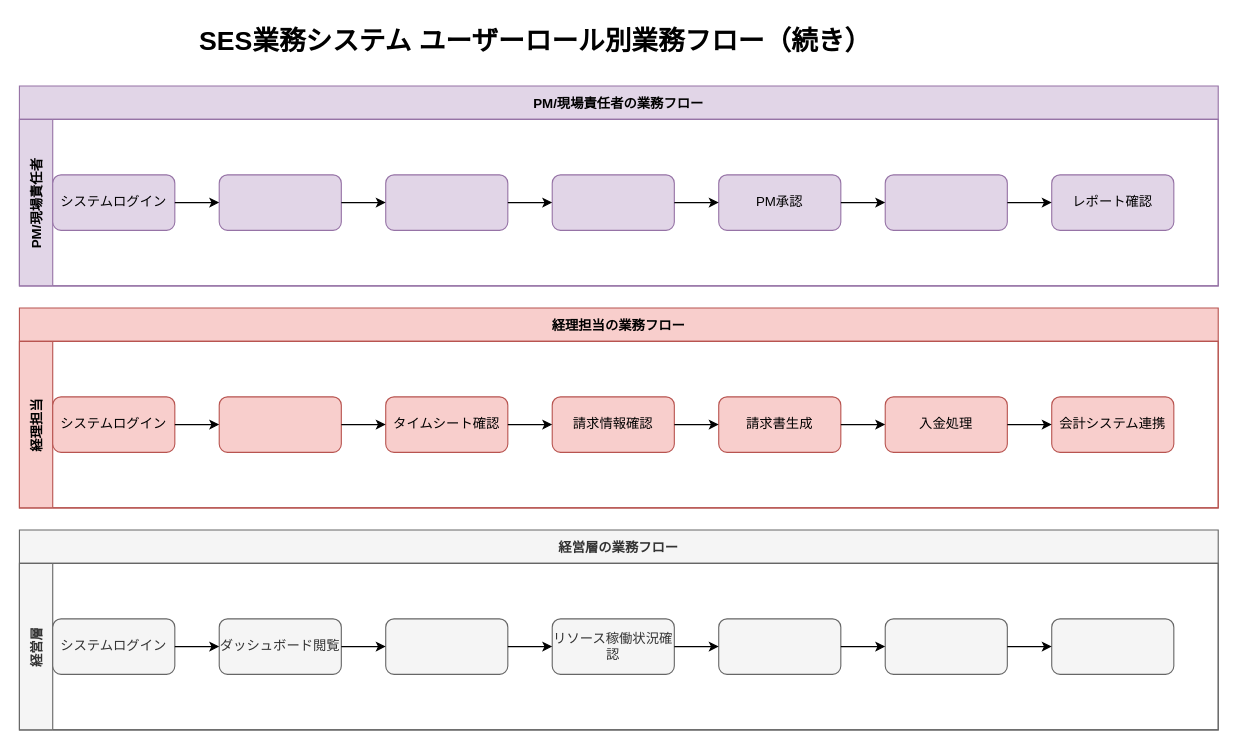
Image size: 1238x749. Some labels were removed from this diagram. The centre of each missing label's shape, as x and y in pixels:
"レポートエクスポート" belongs at (1112,646).
"勤怠内容確認" belongs at (612,202).
"売上レポート確認" belongs at (446,646).
"売上予測確認" belongs at (945,646).
"契約情報確認" belongs at (279,424).
"技術者確認" belongs at (446,202).
"担当案件確認" belongs at (279,202).
"案件進捗状況確認" belongs at (779,646).
"進捗報告" belongs at (945,202).
